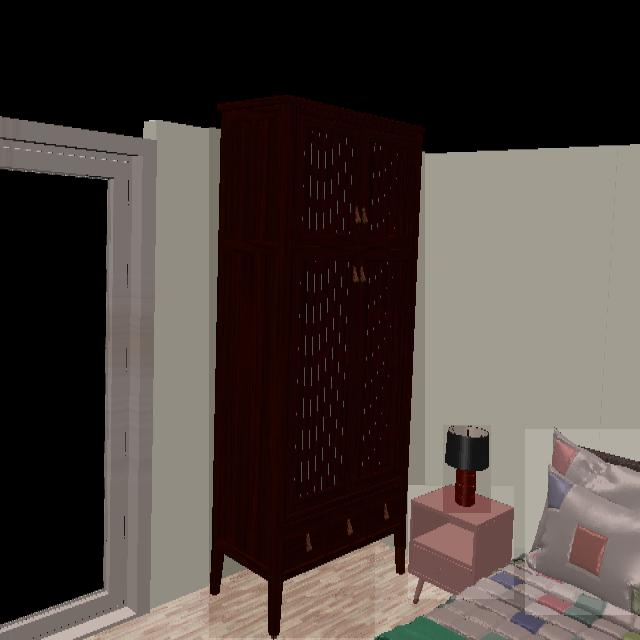bed: (375, 548, 640, 640)
lamp: (443, 425, 491, 512)
nighttable: (408, 487, 514, 599)
pillow: (525, 429, 640, 615)
wardrobe: (209, 96, 425, 637)
